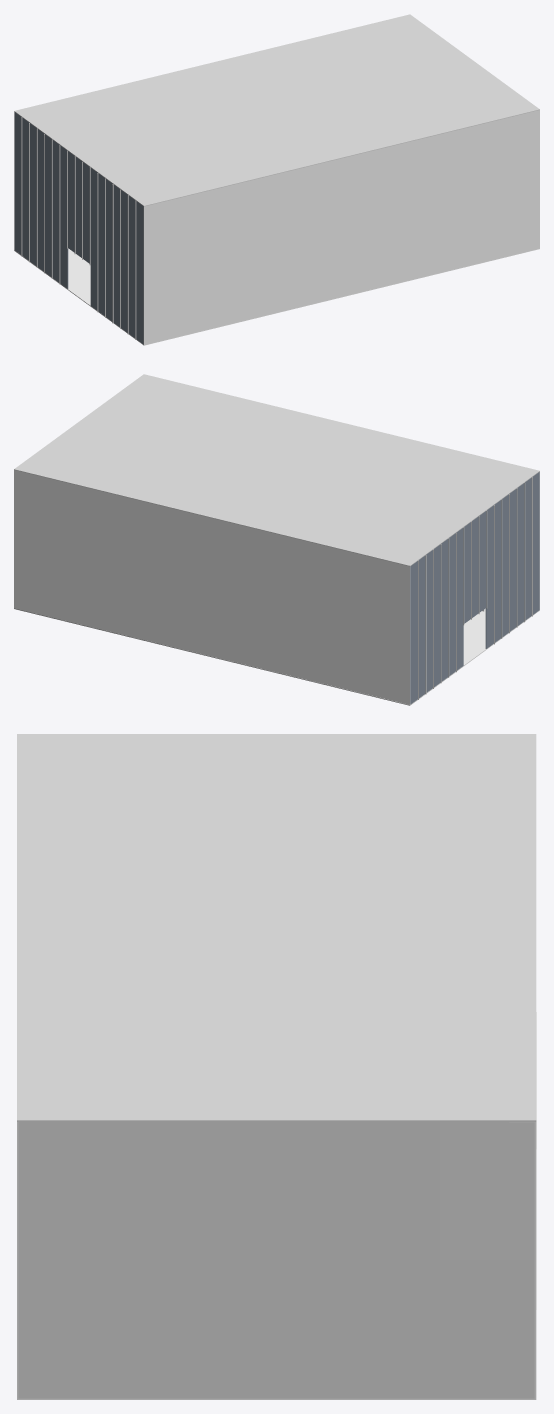
The model's file is 展馆v1.51-withPics.glb.
3 views of the same model, one above another, from view 1: azimuth 30°, elevation 25°; view 2: azimuth 150°, elevation 25°; view 3: azimuth 270°, elevation 25° (orthographic). The views are drawn at different scales.
Visible parts, largest first — view 1: X墙, 楼顶, 幕墙装饰, 玻璃幕墙4, 玻璃幕墙8, 玻璃幕墙1, 玻璃幕墙3, 玻璃幕墙6, 玻璃幕墙7, 玻璃幕墙2, 地板1层, 玻璃幕墙5; view 2: X墙, 楼顶, 幕墙装饰, 玻璃幕墙4, 玻璃幕墙1, 玻璃幕墙3, 玻璃幕墙7, 玻璃幕墙2, 玻璃幕墙8, 玻璃幕墙6, 地板1层, 玻璃幕墙5; view 3: 楼顶, 1层y墙, 2层y墙, X墙, 地板1层.
Boxes of the visible parts, x1=… form: X墙: x1=14, y1=110, x2=539, y2=344; 楼顶: x1=14, y1=14, x2=539, y2=206; 幕墙装饰: x1=21, y1=117, x2=136, y2=339; 玻璃幕墙4: x1=60, y1=145, x2=89, y2=288; 玻璃幕墙8: x1=128, y1=196, x2=143, y2=344; 玻璃幕墙1: x1=14, y1=112, x2=29, y2=260; 玻璃幕墙3: x1=45, y1=134, x2=59, y2=282; 玻璃幕墙6: x1=98, y1=173, x2=112, y2=321; 玻璃幕墙7: x1=113, y1=185, x2=127, y2=332; 玻璃幕墙2: x1=30, y1=123, x2=44, y2=271; 地板1层: x1=14, y1=248, x2=539, y2=345; 玻璃幕墙5: x1=90, y1=168, x2=97, y2=310; X墙: x1=14, y1=470, x2=539, y2=704; 楼顶: x1=14, y1=374, x2=539, y2=566; 幕墙装饰: x1=418, y1=477, x2=532, y2=699; 玻璃幕墙4: x1=456, y1=511, x2=486, y2=670; 玻璃幕墙1: x1=410, y1=556, x2=425, y2=704; 玻璃幕墙3: x1=441, y1=533, x2=455, y2=681; 玻璃幕墙7: x1=509, y1=483, x2=524, y2=631; 玻璃幕墙2: x1=426, y1=544, x2=440, y2=692; 玻璃幕墙8: x1=525, y1=472, x2=539, y2=620; 玻璃幕墙6: x1=494, y1=494, x2=508, y2=642; 地板1层: x1=14, y1=608, x2=539, y2=705; 玻璃幕墙5: x1=485, y1=505, x2=493, y2=648; 楼顶: x1=17, y1=734, x2=536, y2=1121; 1层y墙: x1=18, y1=1259, x2=534, y2=1398; 2层y墙: x1=18, y1=1122, x2=534, y2=1259; X墙: x1=17, y1=1122, x2=536, y2=1398; 地板1层: x1=17, y1=1012, x2=536, y2=1399.
Size of the model in its own units: 30.15 by 10.16 by 17.13.
